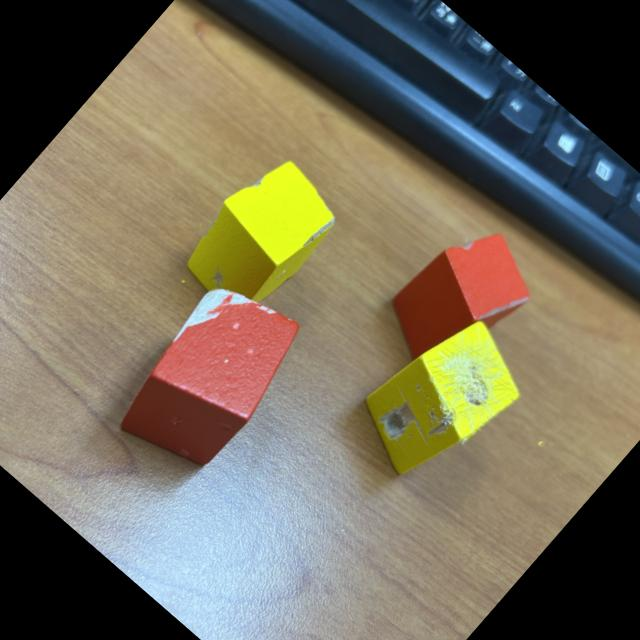broken: (102, 264, 319, 489), (340, 296, 540, 502), (370, 208, 549, 393), (172, 144, 350, 328)
